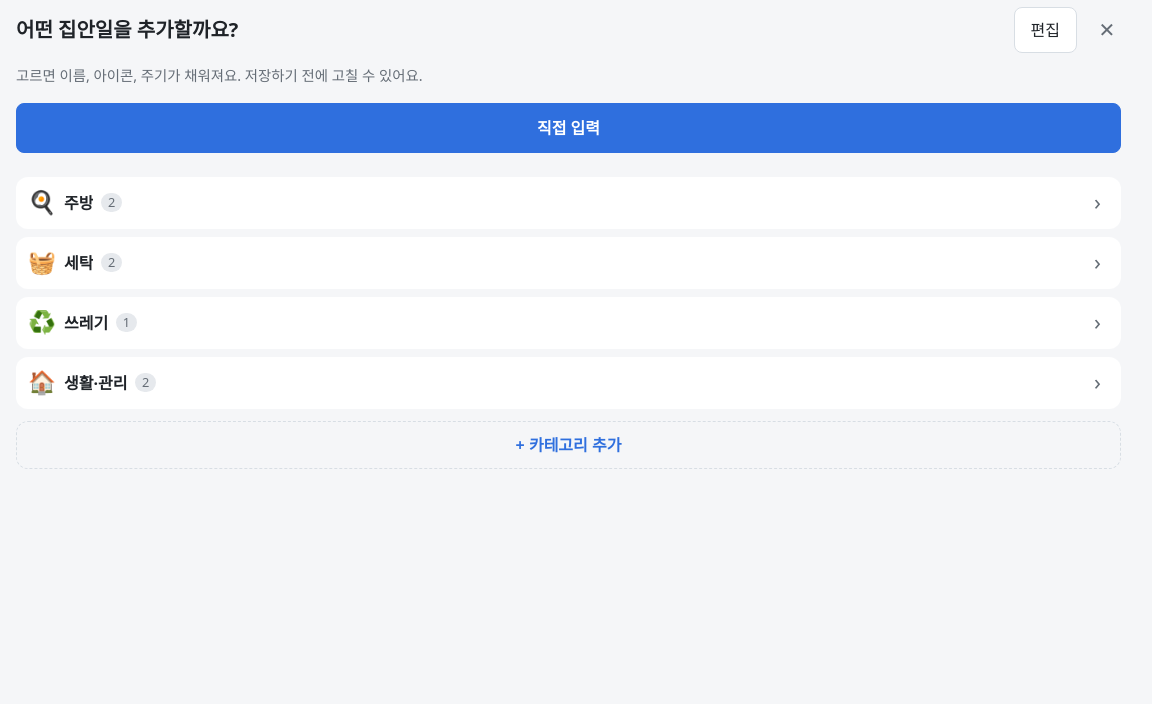
Test case: 항목 추가 › 같은 이름이 있어 서버가 409로 거절하면 "이미 같은 이름이 있어요"를 보여주고 입력을 그대로 둔다
Click the button "🍳 주방 2 ›": (42,202) [16,177,1113,229]
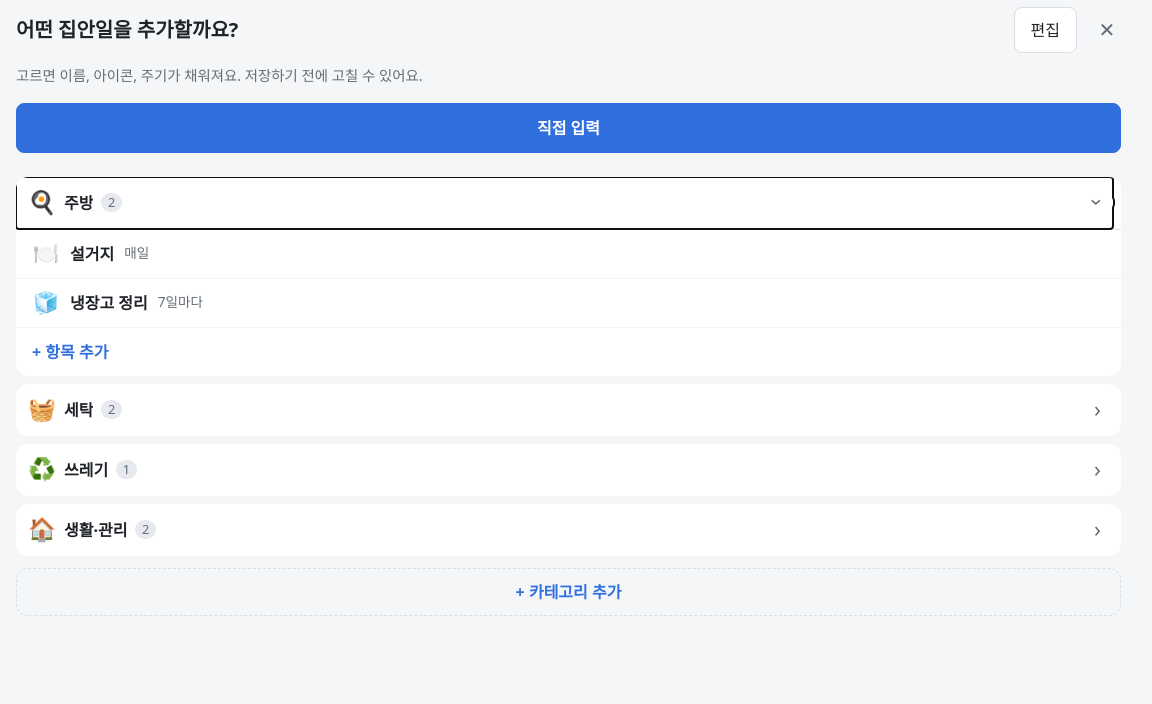
Now the button "🍳 주방 2 ›" is expanded, box [16,177,1113,229]
Click the button "+ 항목 추가": (70,352) [16,328,1121,376]
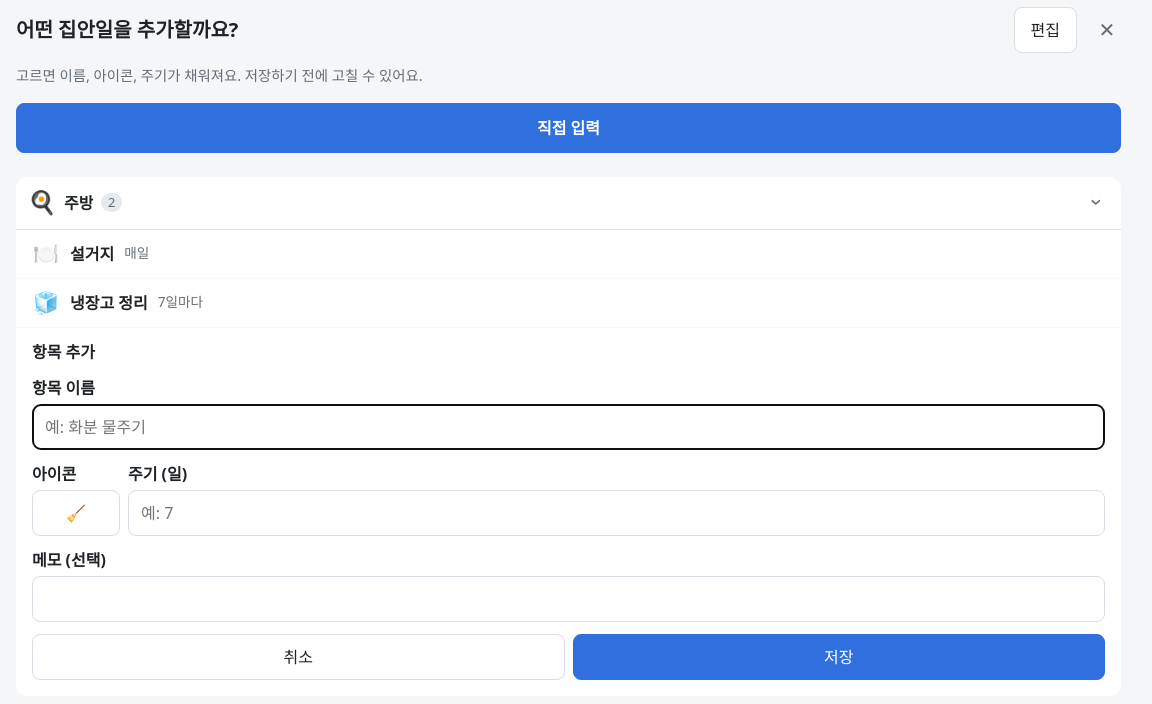
In the field labelled "항목 이름": (568,427) [32,404,1105,450], type "설거지"
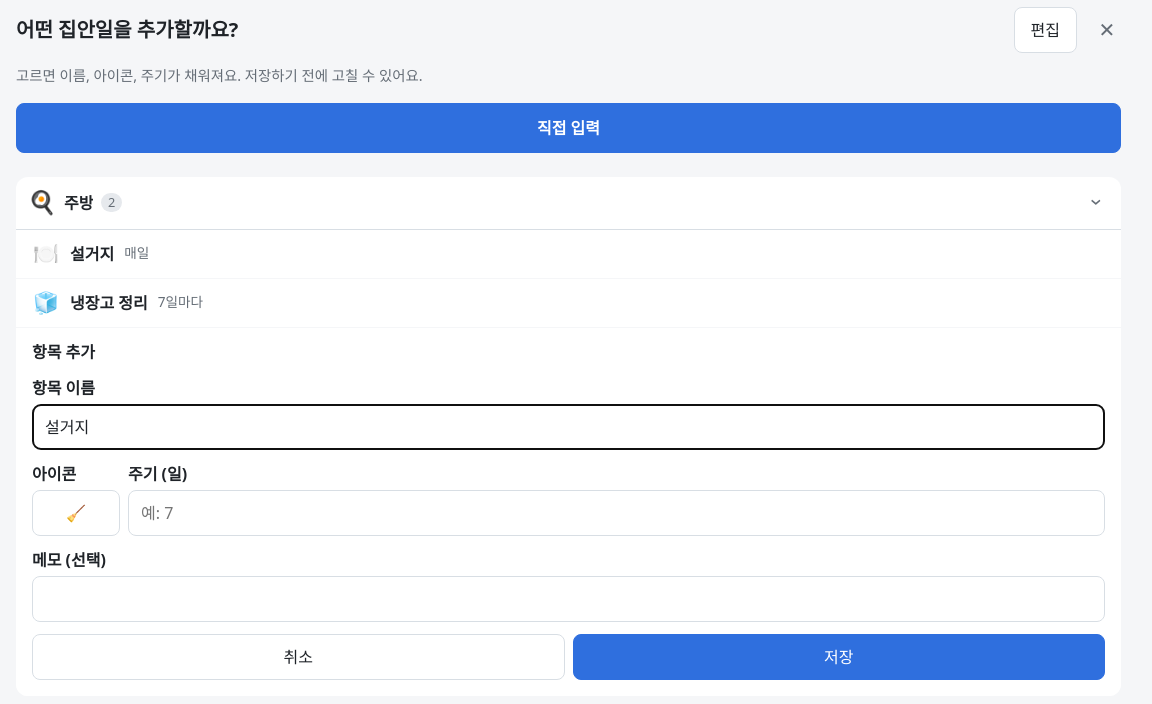
In the number field labelled "주기 (일)": (616,513) [128,490,1105,536], type "2"
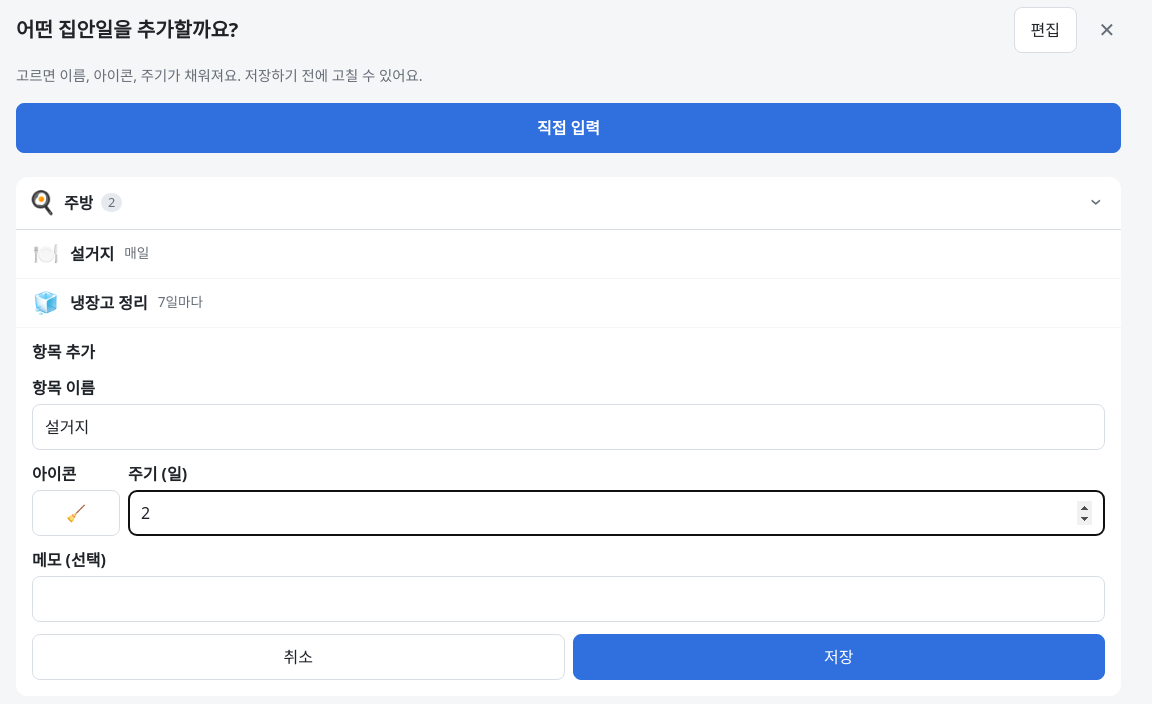
Click the button "저장": (839,657) [572,634,1105,680]
(page scrolled)
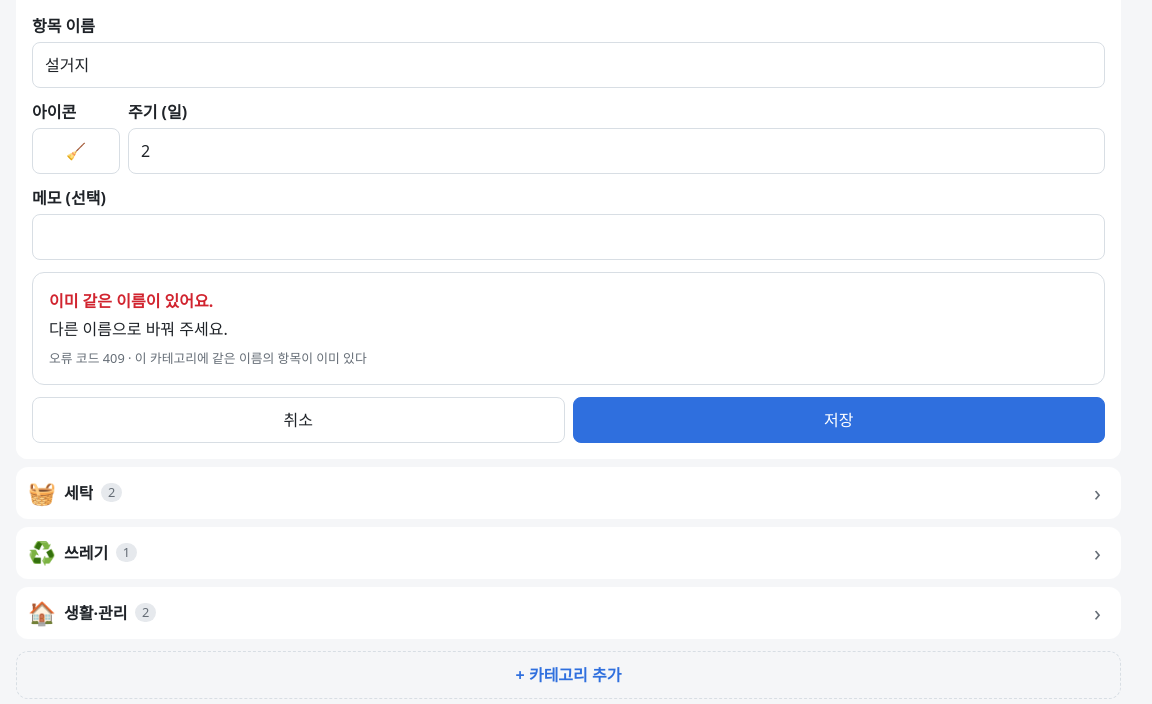
Now the text with class "error-notice__title" reads "이미 같은 이름이 있어요.", box [49,290,213,312]
Now the text with class "error-notice__hint" reads "다른 이름으로 바꿔 주세요.", box [49,318,228,340]
Now the text with class "error-notice__detail" reads "오류 코드 409 · 이 카테고리에 같은 이름의 항목이 이미 있다", box [49,349,367,367]
